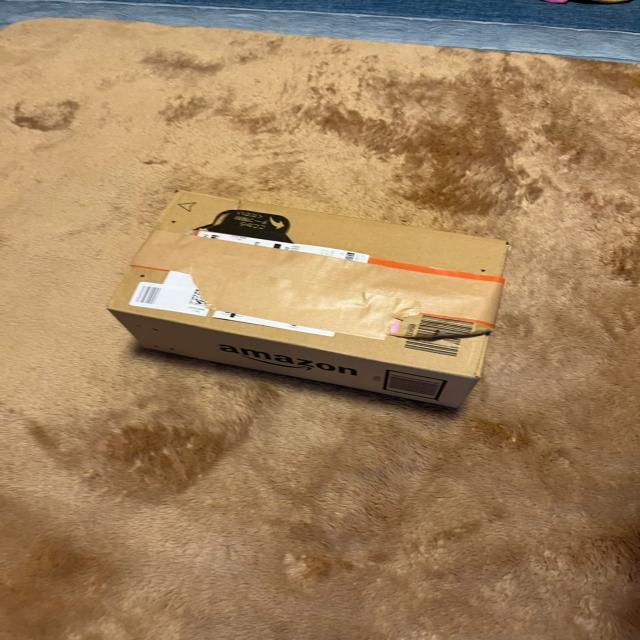-: (99, 186, 518, 418)
